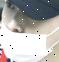mask_weared_incorrect: (1, 1, 59, 62)
